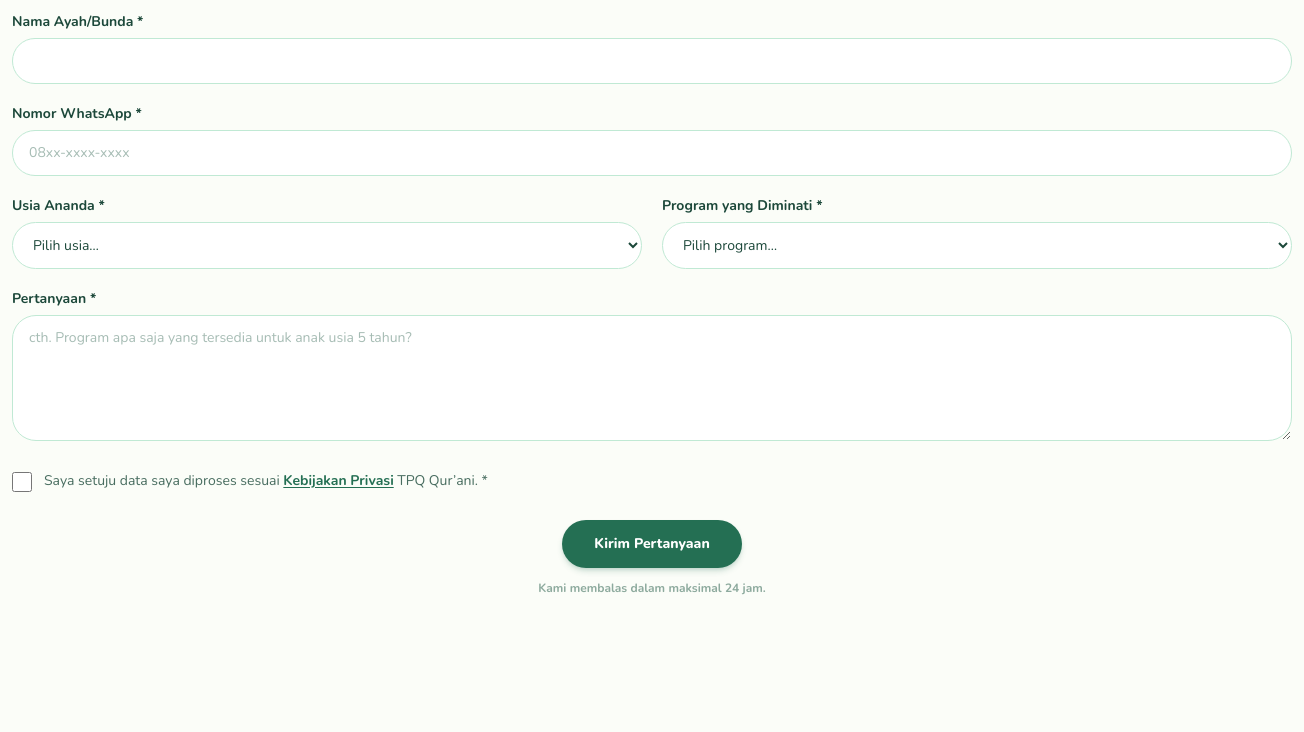
Test: InquiryForm (kontak page) › focuses the first invalid field when submitting an empty form
What coordinates should you click on to do the following:
click the button "Kirim Pertanyaan"
I would click on:
 (652, 544)
Its box is 562,520 -> 742,568.
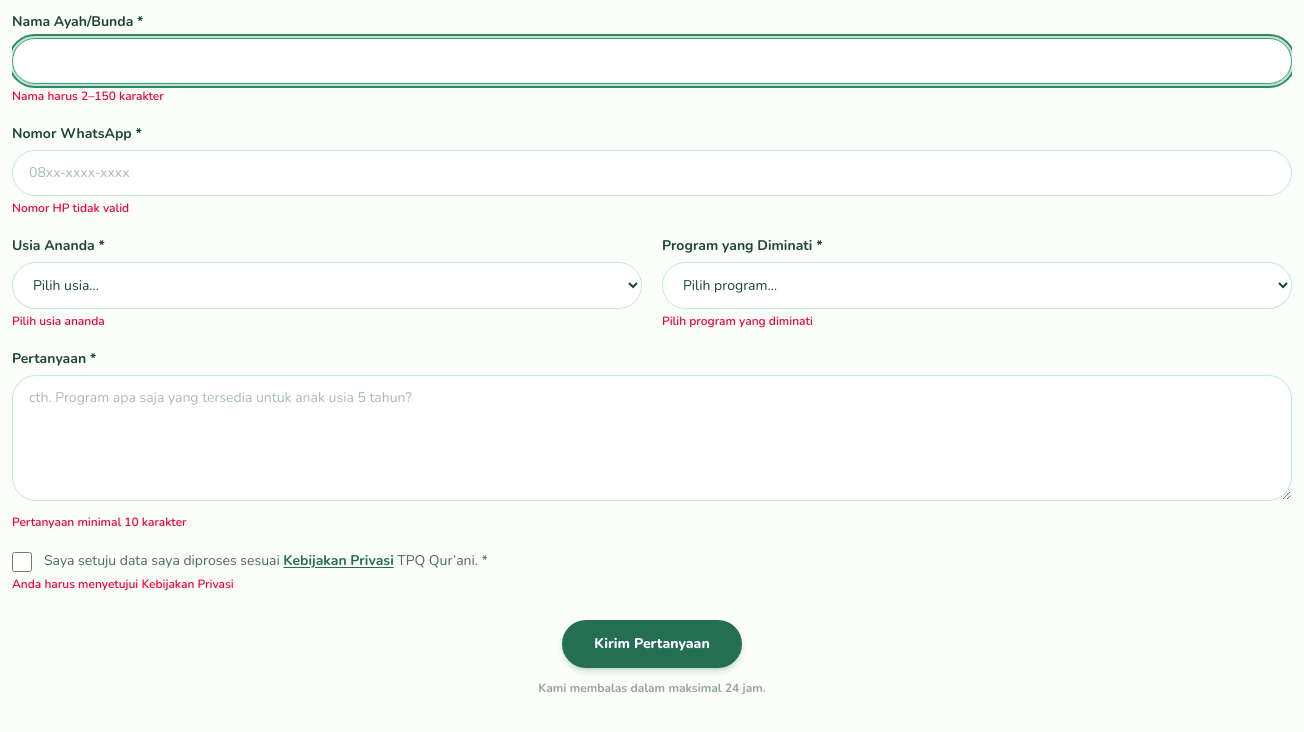
Check: the text "Nama harus 2–150 karakter" is shown, box 12,88 -> 164,104
